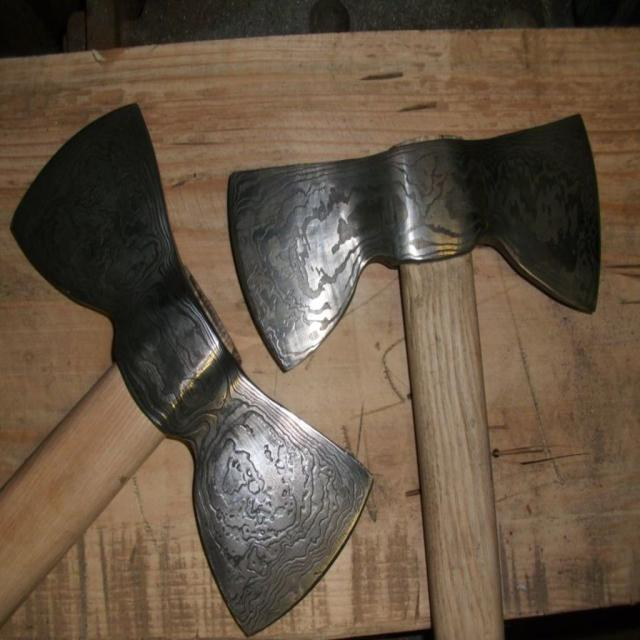Axe: (0, 105, 370, 634), (228, 116, 600, 639)
